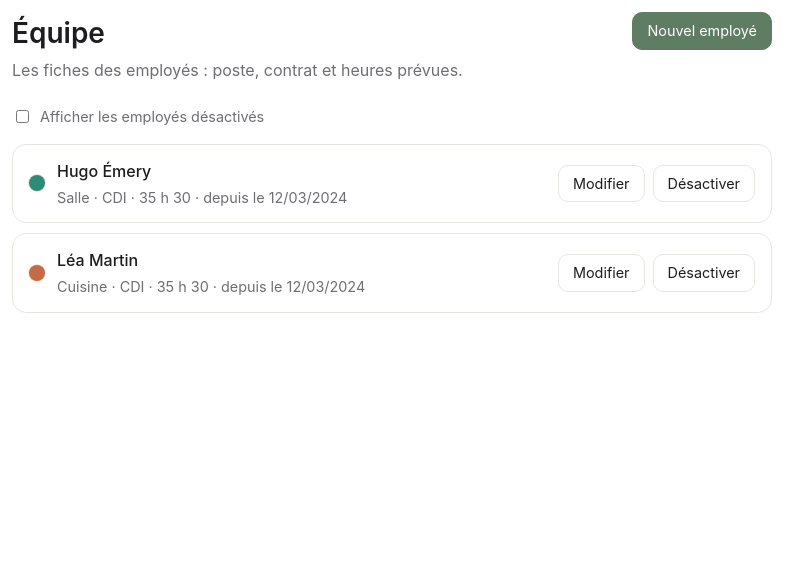
Test case: team page › edits an employee in their card
Expected: the checkbox labelled "Afficher les employés désactivés" is shown, x1=16 y1=110 x2=29 y2=123
Click the button with aria-label "Modifier la fiche de Léa Martin" at (601, 273), box x1=558 y1=254 x2=644 y2=292
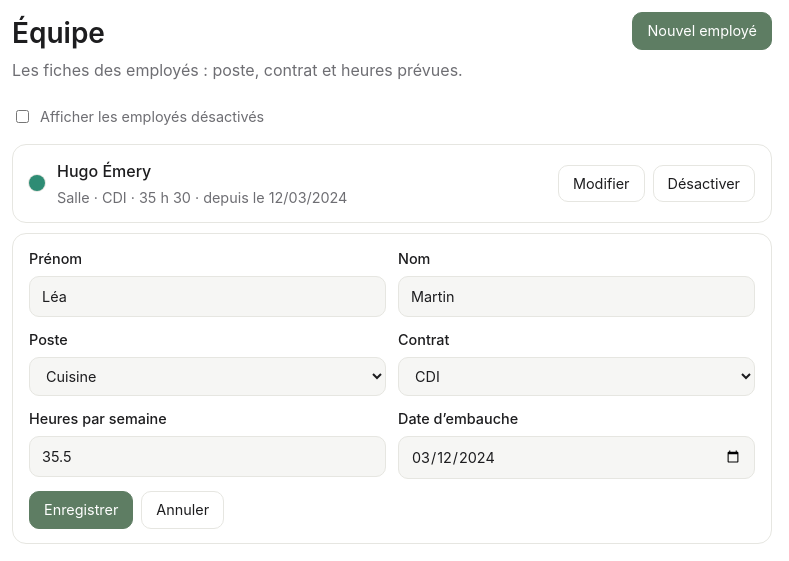
Expected: the number field labelled "Heures par semaine" holds "35.5", x1=29 y1=436 x2=386 y2=477
Select "CDD" in the dropdown labelled "Contrat" at (576, 376), box x1=398 y1=357 x2=755 y2=396
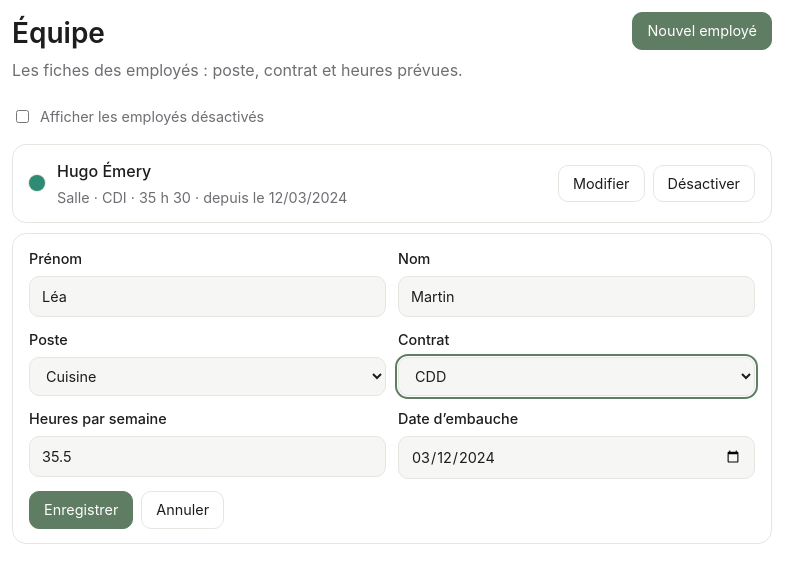
Click the button "Enregistrer" at (81, 510), box x1=29 y1=491 x2=133 y2=529
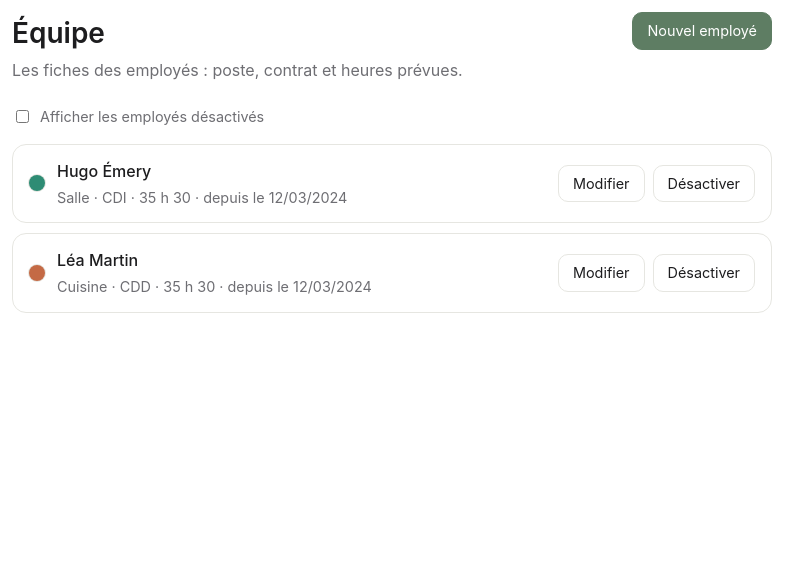
Expected: the text "Cuisine · CDD · 35 h 30 · depuis le 12/03/2024" is shown, x1=57 y1=278 x2=372 y2=295
